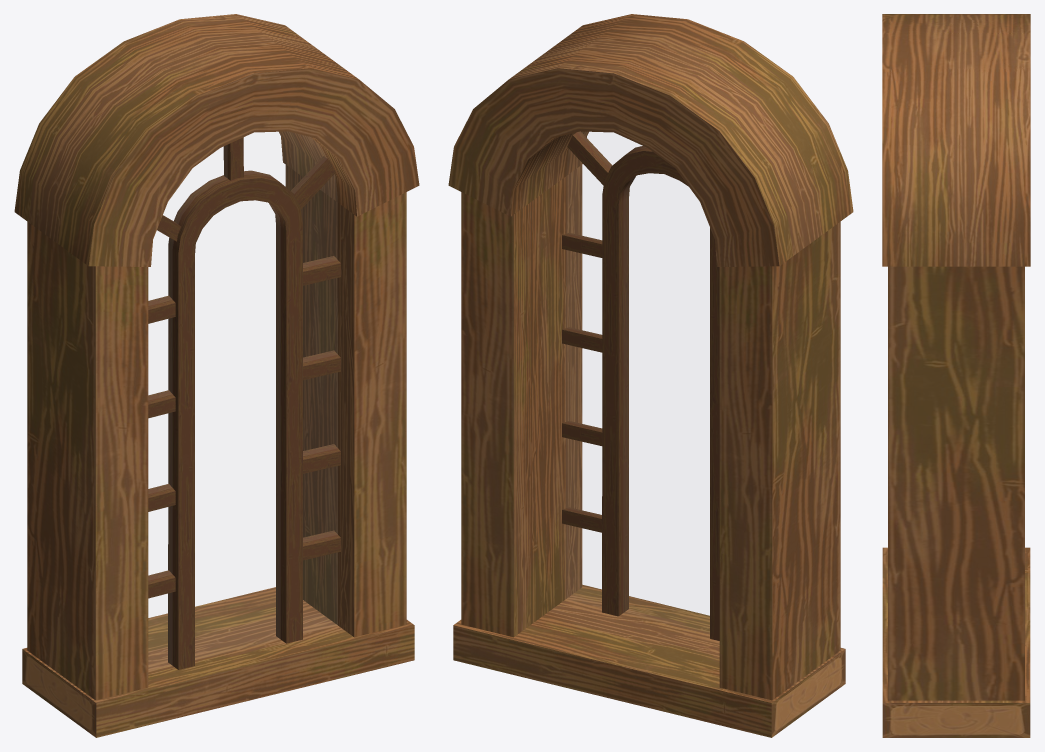
File: Window_Thin_Round1.gltf
The picture shows the model from 3 angles, left to right: view 1: azimuth 30°, elevation 25°; view 2: azimuth 150°, elevation 25°; view 3: azimuth 270°, elevation 25°; orthographic projection.
Parts seen in each view (by area): view 1: Window_Thin_Round1; view 2: Window_Thin_Round1; view 3: Window_Thin_Round1.
Boxes of the visible parts, x1,y1,x2,y2 form: Window_Thin_Round1: (14,14,419,737); Window_Thin_Round1: (448,14,853,737); Window_Thin_Round1: (882,14,1030,737).
Size of the model in its own units: 0.8876 by 1.6 by 0.3444.
2 materials, 1 textured.
